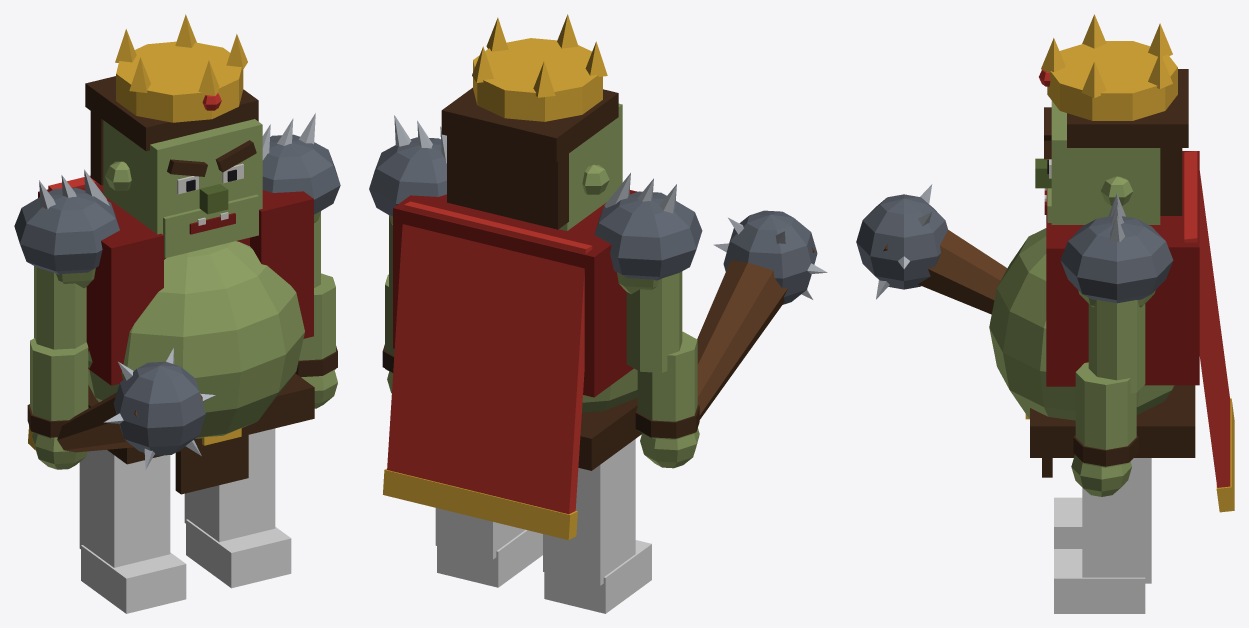
The model's file is boss.fbx.
The picture shows the model from 3 angles, left to right: view 1: azimuth 30°, elevation 25°; view 2: azimuth 150°, elevation 25°; view 3: azimuth 270°, elevation 25°; orthographic projection. The views are drawn at different scales.
Visible parts, largest first — view 1: boss_Body, boss_ArmR, boss_LegR, boss_LegL, boss_ArmL; view 2: boss_Body, boss_ArmR, boss_LegR, boss_LegL, boss_ArmL; view 3: boss_Body, boss_ArmL, boss_LegL, boss_ArmR, boss_LegR.
Part boxes in pixels (<box>): boss_Body: <box>14,14,340,494</box>; boss_ArmR: <box>27,266,215,469</box>; boss_LegR: <box>79,449,186,613</box>; boss_LegL: <box>184,428,291,588</box>; boss_ArmL: <box>295,213,337,408</box>; boss_Body: <box>369,14,702,540</box>; boss_ArmR: <box>626,210,827,468</box>; boss_LegR: <box>543,439,651,613</box>; boss_LegL: <box>435,508,542,587</box>; boss_ArmL: <box>382,216,394,393</box>; boss_Body: <box>989,14,1234,512</box>; boss_ArmL: <box>1071,300,1145,496</box>; boss_LegL: <box>1054,458,1151,613</box>; boss_ArmR: <box>856,184,1007,314</box>; boss_LegR: <box>1054,497,1082,548</box>.
Bounding box in the file's own units: 1.8 × 2.72 × 1.74.
